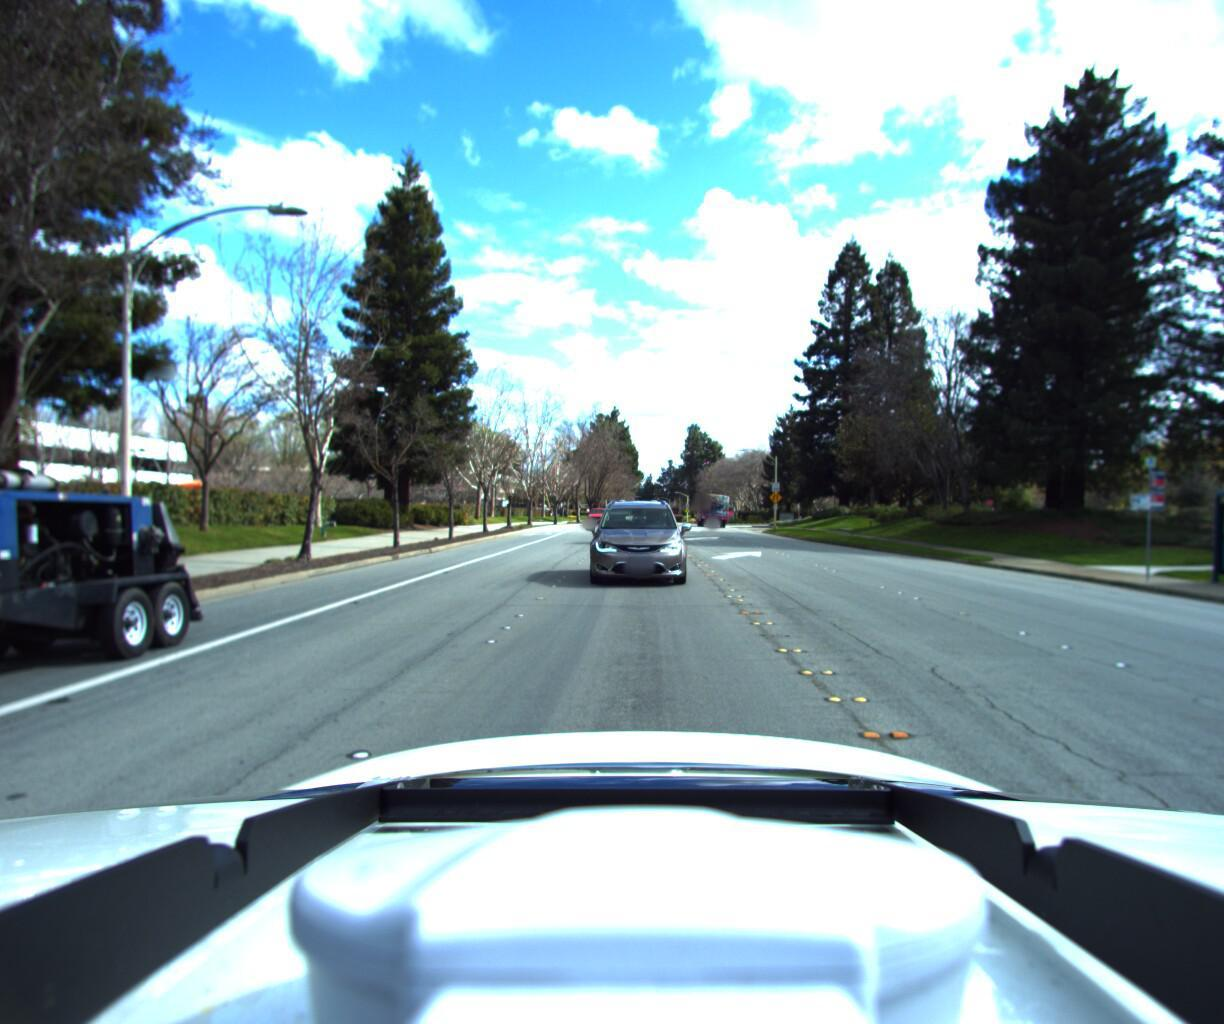bus: (690, 500, 728, 536)
car: (584, 495, 691, 593), (582, 516, 607, 534)
